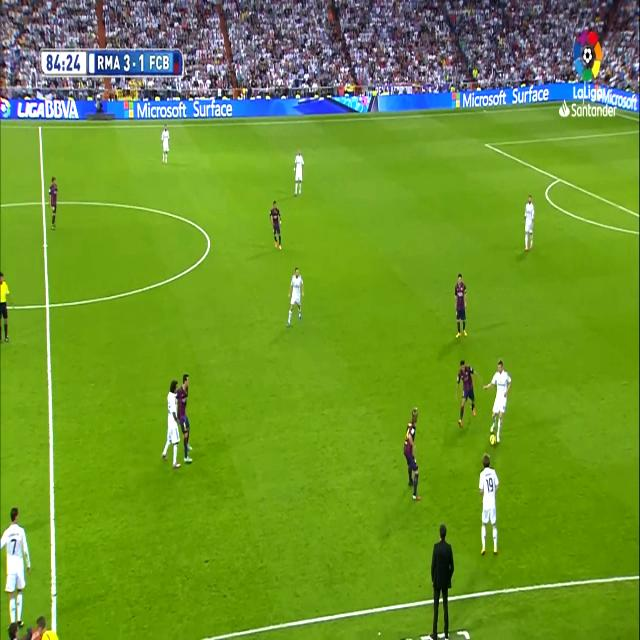halfcircle_bottom: (41, 291, 53, 318)
halfcircle_top: (38, 192, 48, 212)
midline_top_intersection: (36, 122, 44, 132)
top_arc_area_intersection: (555, 170, 563, 186)
